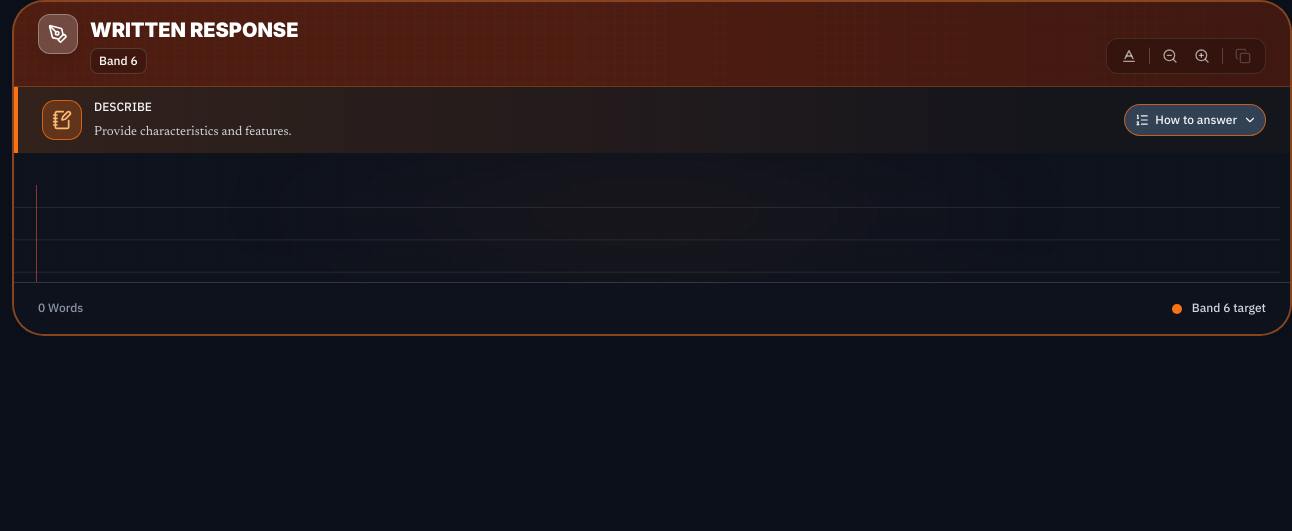
Test: the verb brief › the way in to the method › opens to the method and its checks, and says the verb no second time
Click the button "How to answer": (1195, 120) [1124,104,1266,136]
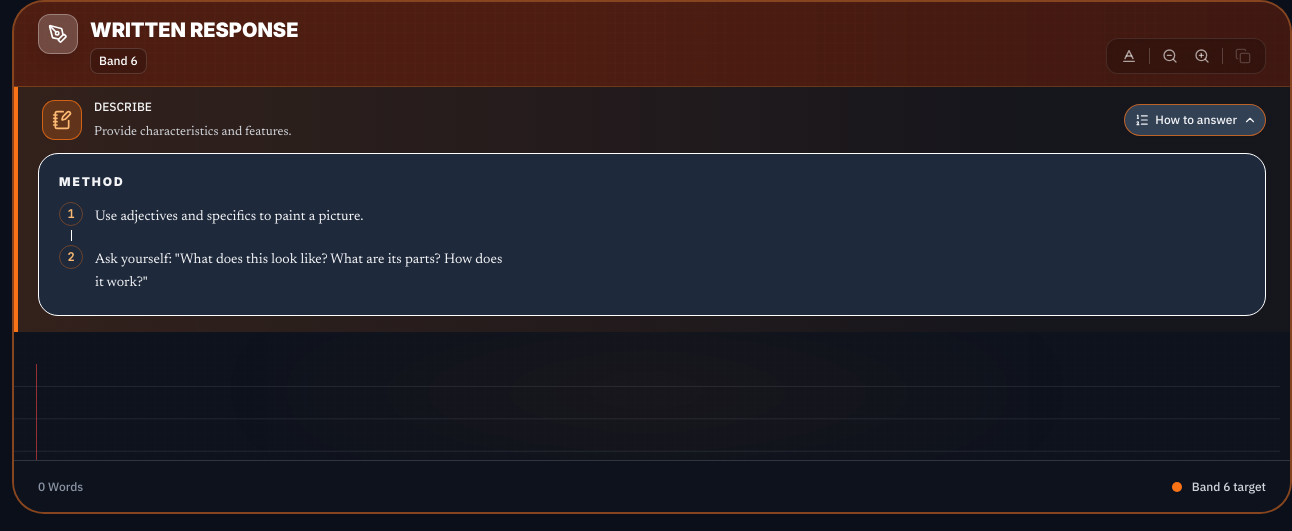
Now the text "Use adjectives and specifics to paint a picture." is shown, box [95,210,364,224]
